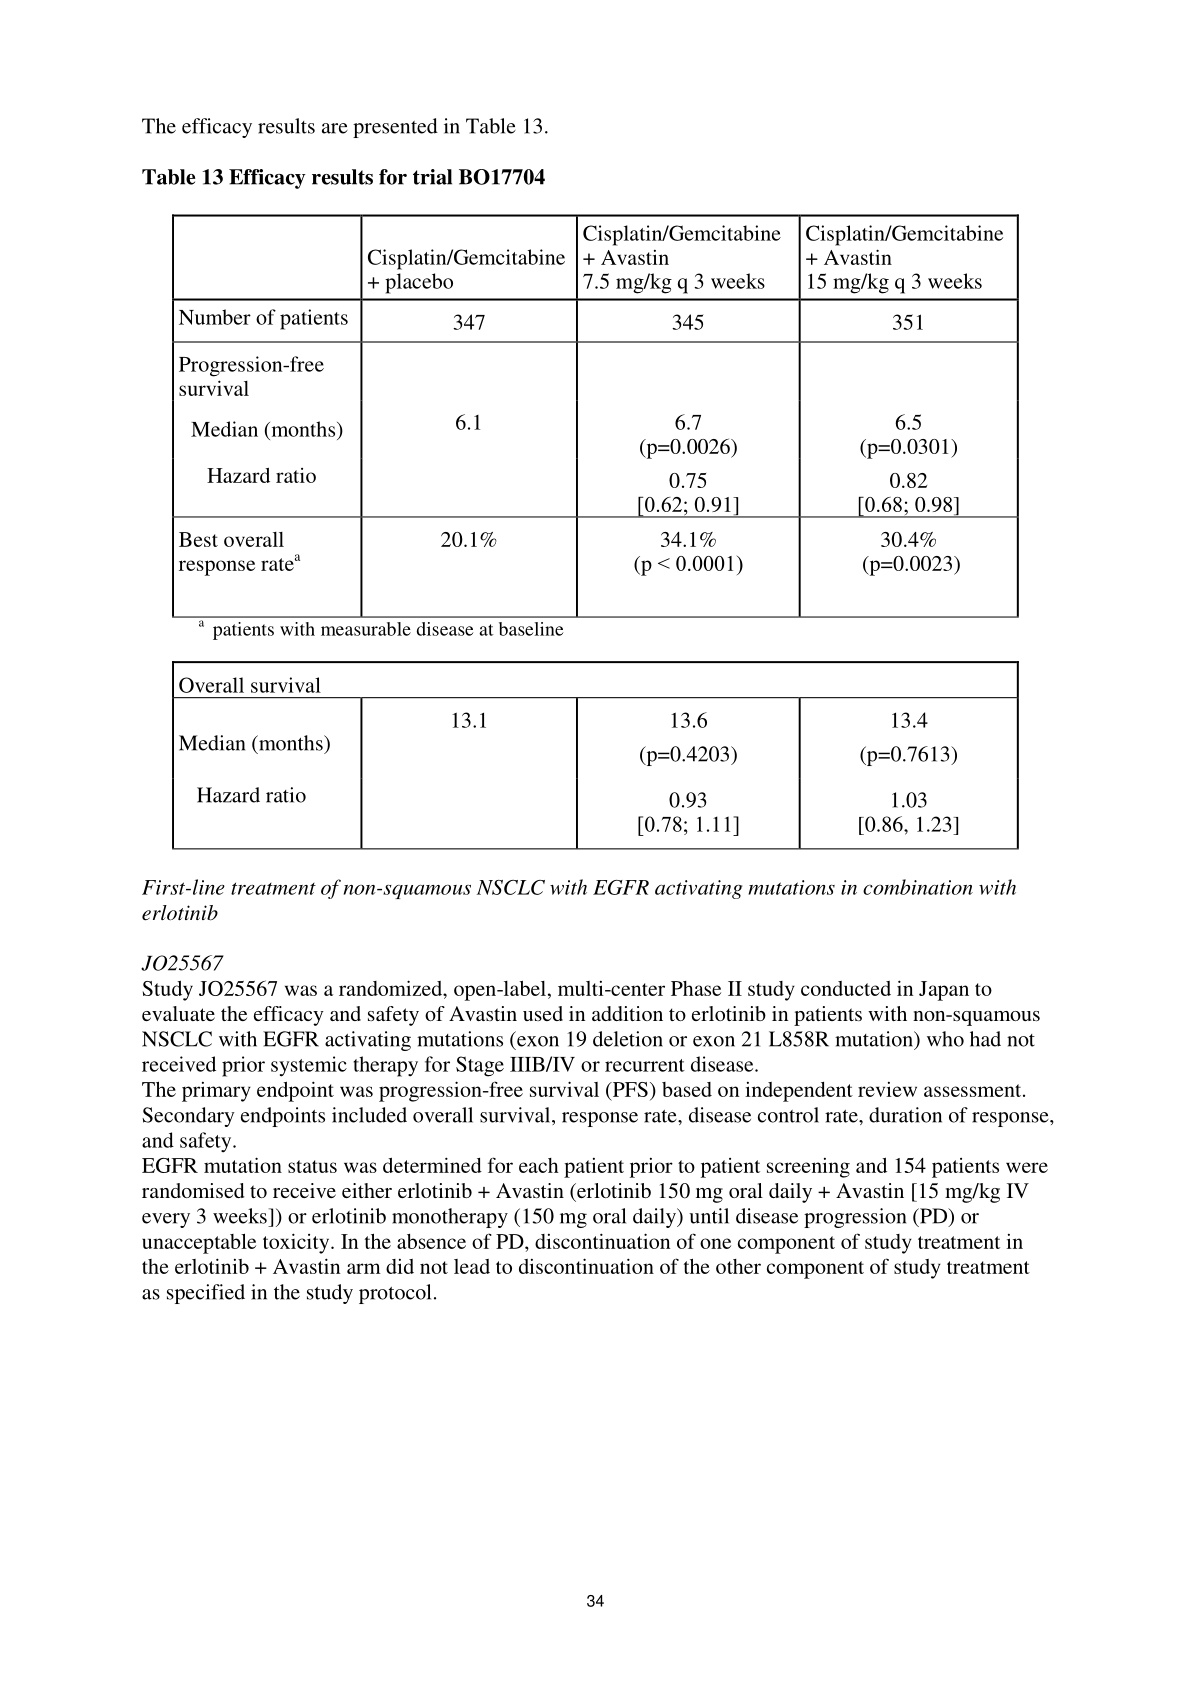merged_cells: (171, 214, 1020, 619), (171, 659, 1020, 850)
